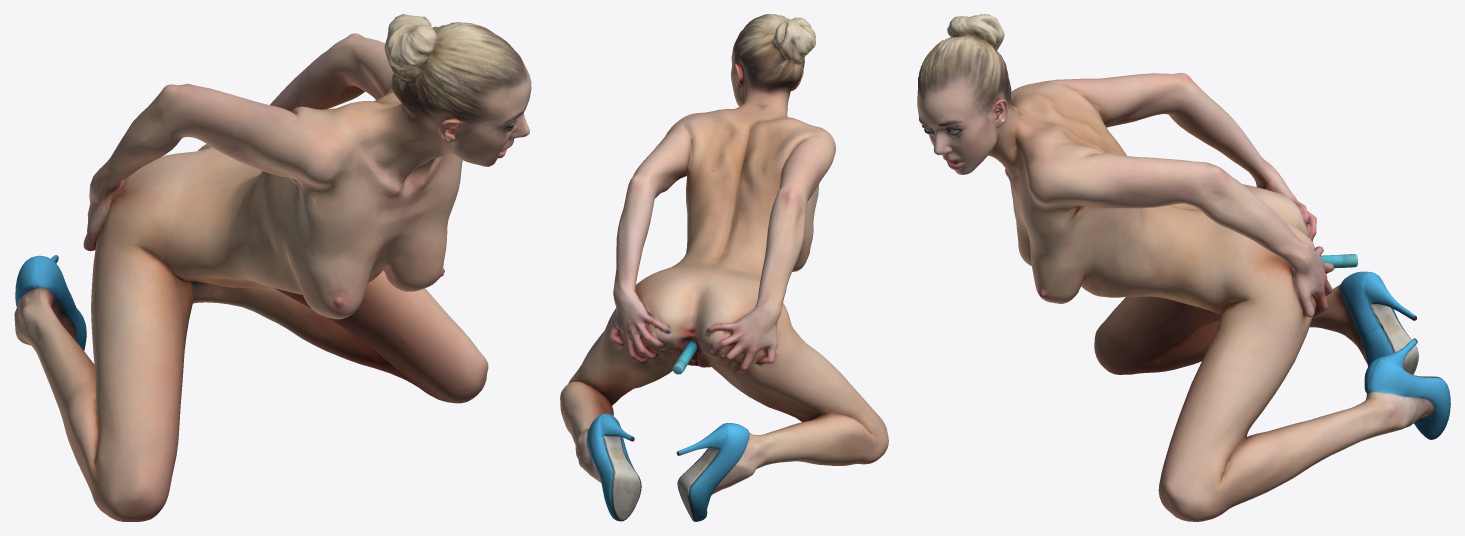
Rendered from dome00x1d.glb.
3 renders of one model, left to right at view 1: azimuth 30°, elevation 25°; view 2: azimuth 150°, elevation 25°; view 3: azimuth 270°, elevation 25°, orthographic. The views are drawn at different scales.
Visible parts, largest first — view 1: Atlas2.001; view 2: Atlas2.001; view 3: Atlas2.001.
Part boxes in pixels (x1,y1,x2,y2): Atlas2.001: [14, 14, 531, 521]; Atlas2.001: [560, 14, 888, 521]; Atlas2.001: [917, 14, 1450, 521].
Size of the model in its own units: 0.8447 by 0.9939 by 1.11.
Materials: 1 (1 with a texture image).
